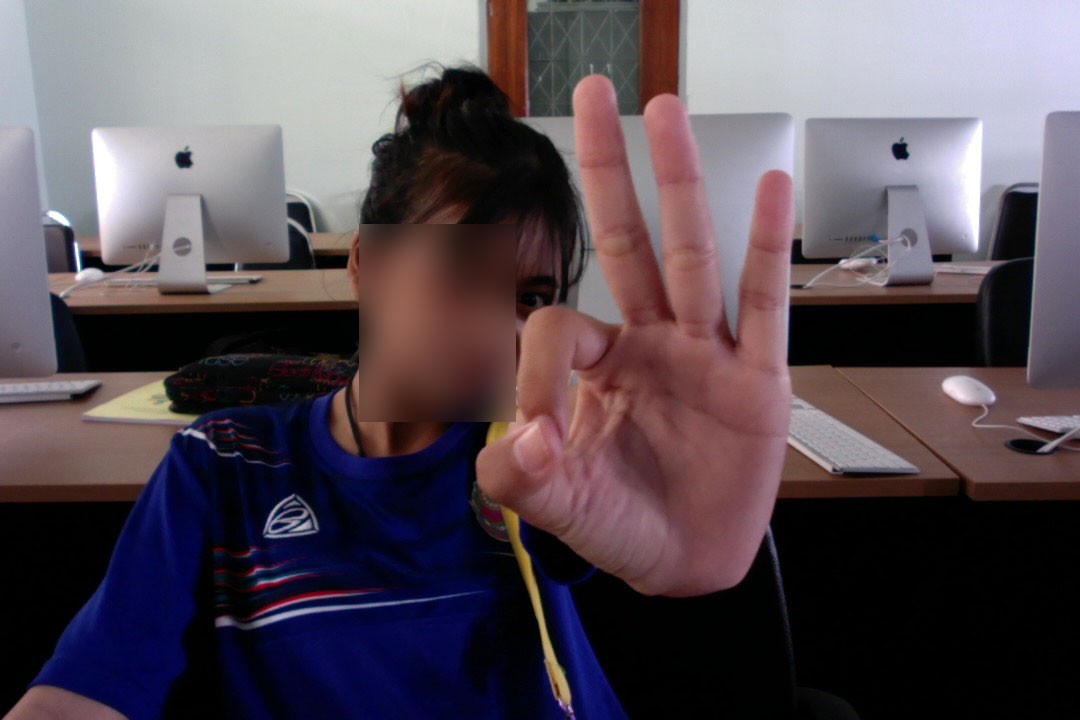for: (439, 55, 863, 621)
